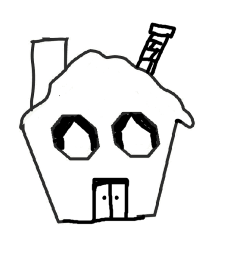chimney: (26, 29, 71, 105), (128, 12, 178, 77)
door: (86, 172, 134, 228)
open_window: (110, 108, 161, 166), (50, 109, 103, 164)
single_line_roof: (7, 46, 202, 133)
wall: (25, 120, 178, 238)
